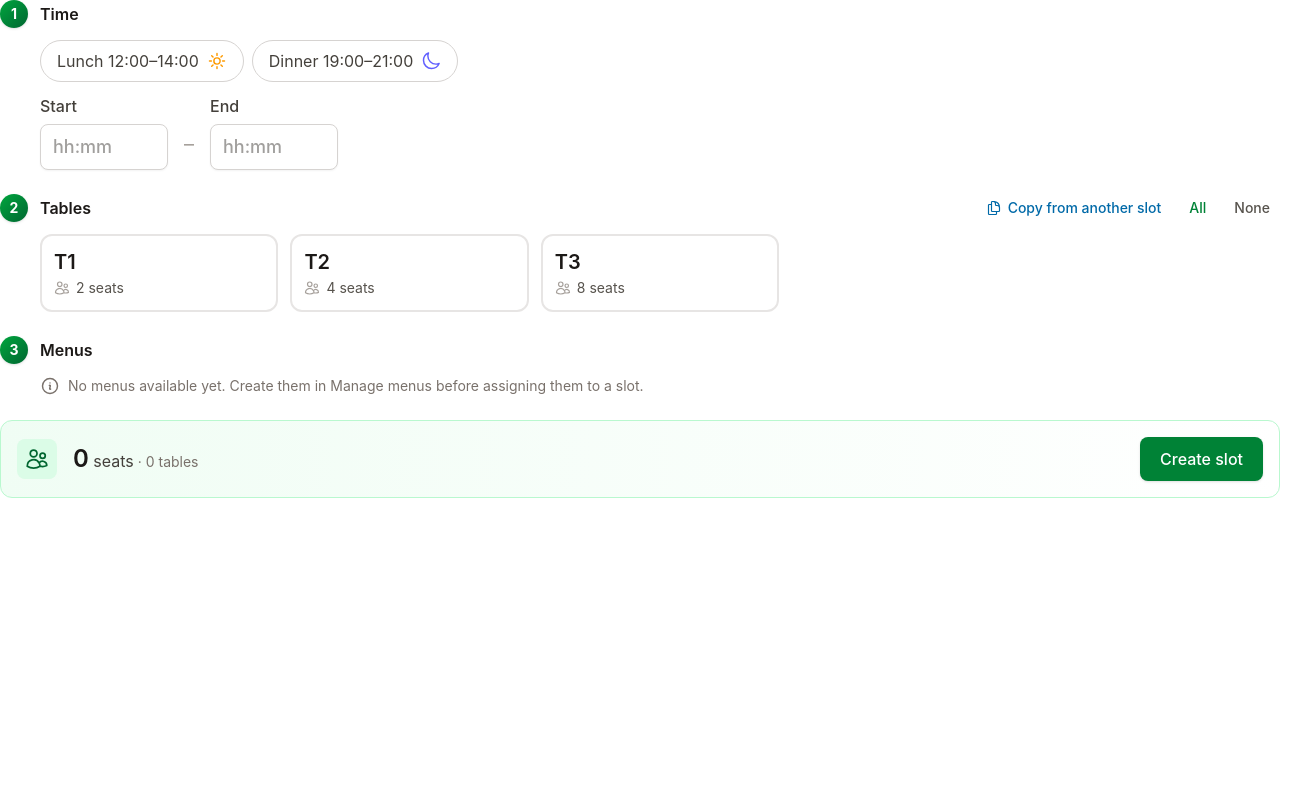
Test: CreateSlotForm › copying tables from another slot › selects the tables of the chosen slot and says where they come from
Click the button "Copy from another slot". click: [1073, 208]
box: [976,194,1171,222]
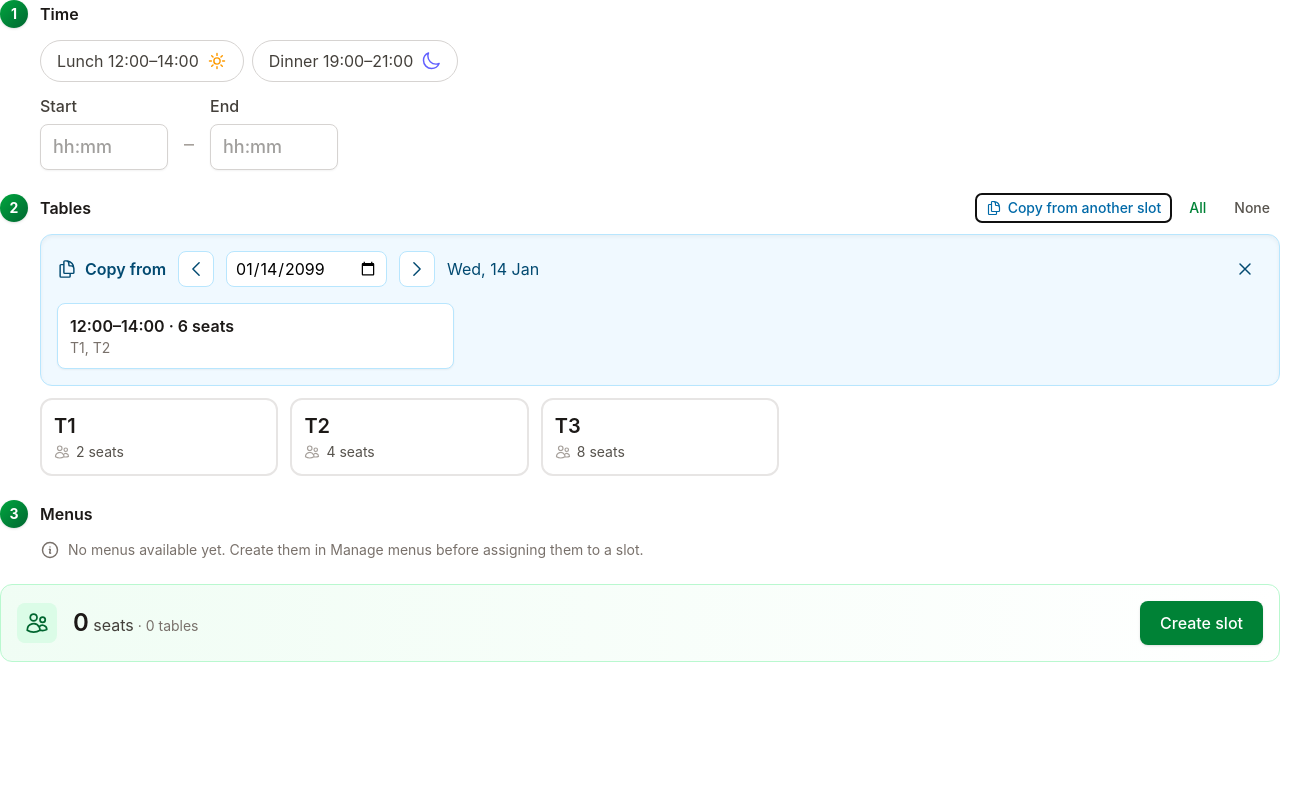
Now the button "12:00–14:00 · 6 seats T1, T2" is shown
Click the button "12:00–14:00 · 6 seats T1, T2". click: [91, 326]
box: [57,303,454,369]
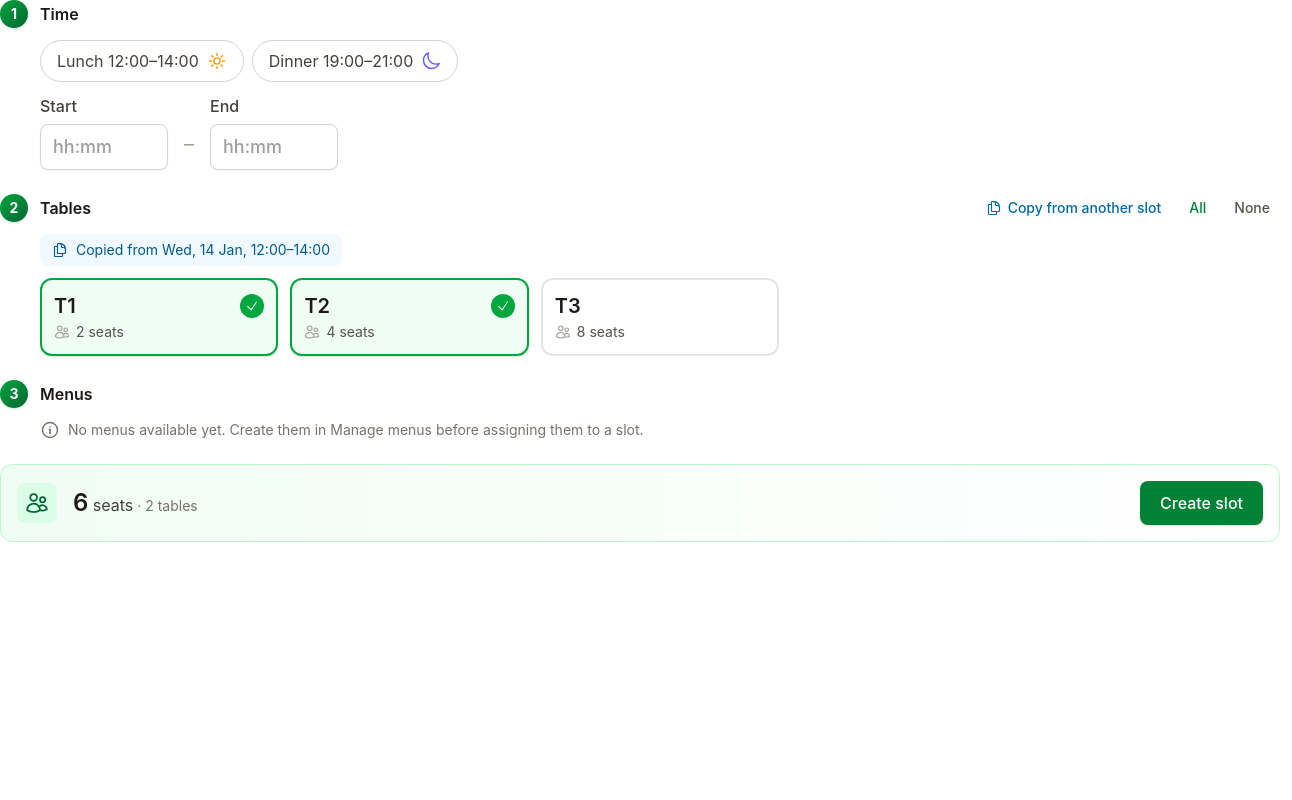
Now the text "6 seats · 2 tables" is shown, box [73,487,198,519]
Now the text "Copied from Wed, 14 Jan, 12:00–14:00" is shown, box [40,234,342,266]
